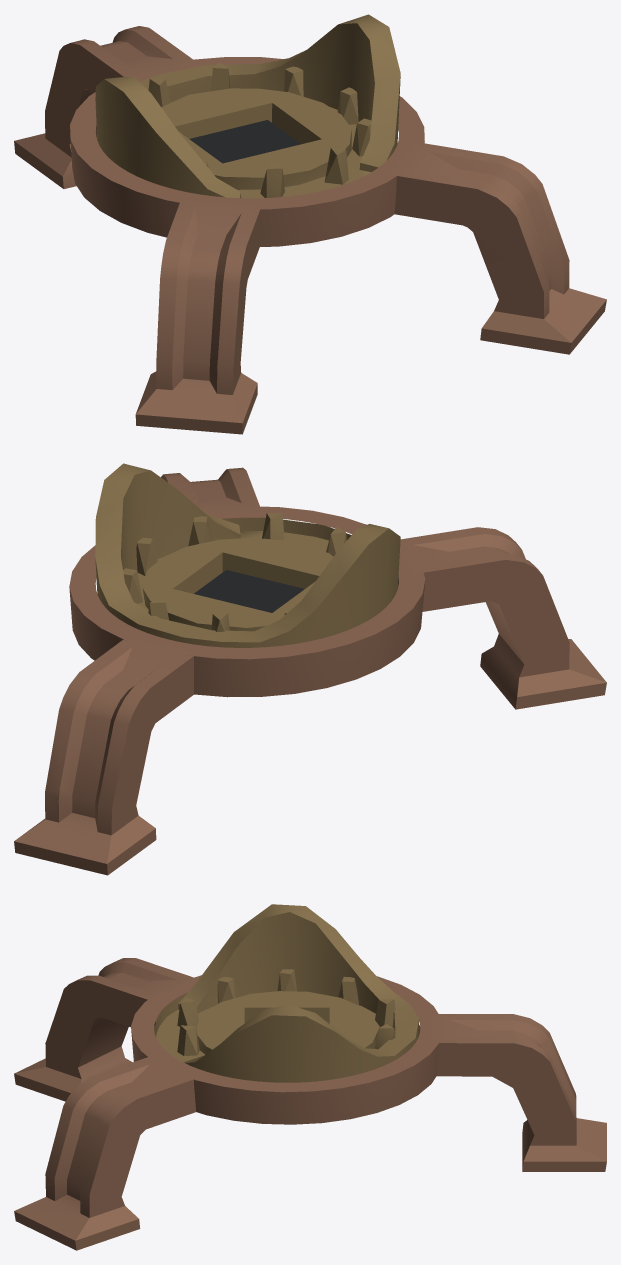
The model's file is burner-inserter.glb.
3 views of the same model, one above another, from view 1: azimuth 30°, elevation 25°; view 2: azimuth 150°, elevation 25°; view 3: azimuth 270°, elevation 25° (orthographic). The views are drawn at different scales.
Visible parts, largest first — view 1: body; view 2: body; view 3: body.
Boxes of the visible parts, x1,y1,x2,y2 form: body: (14,14,606,434); body: (14,463,606,875); body: (14,904,606,1250).
Size of the model in its own units: 0.9048 by 0.4168 by 1.15.
